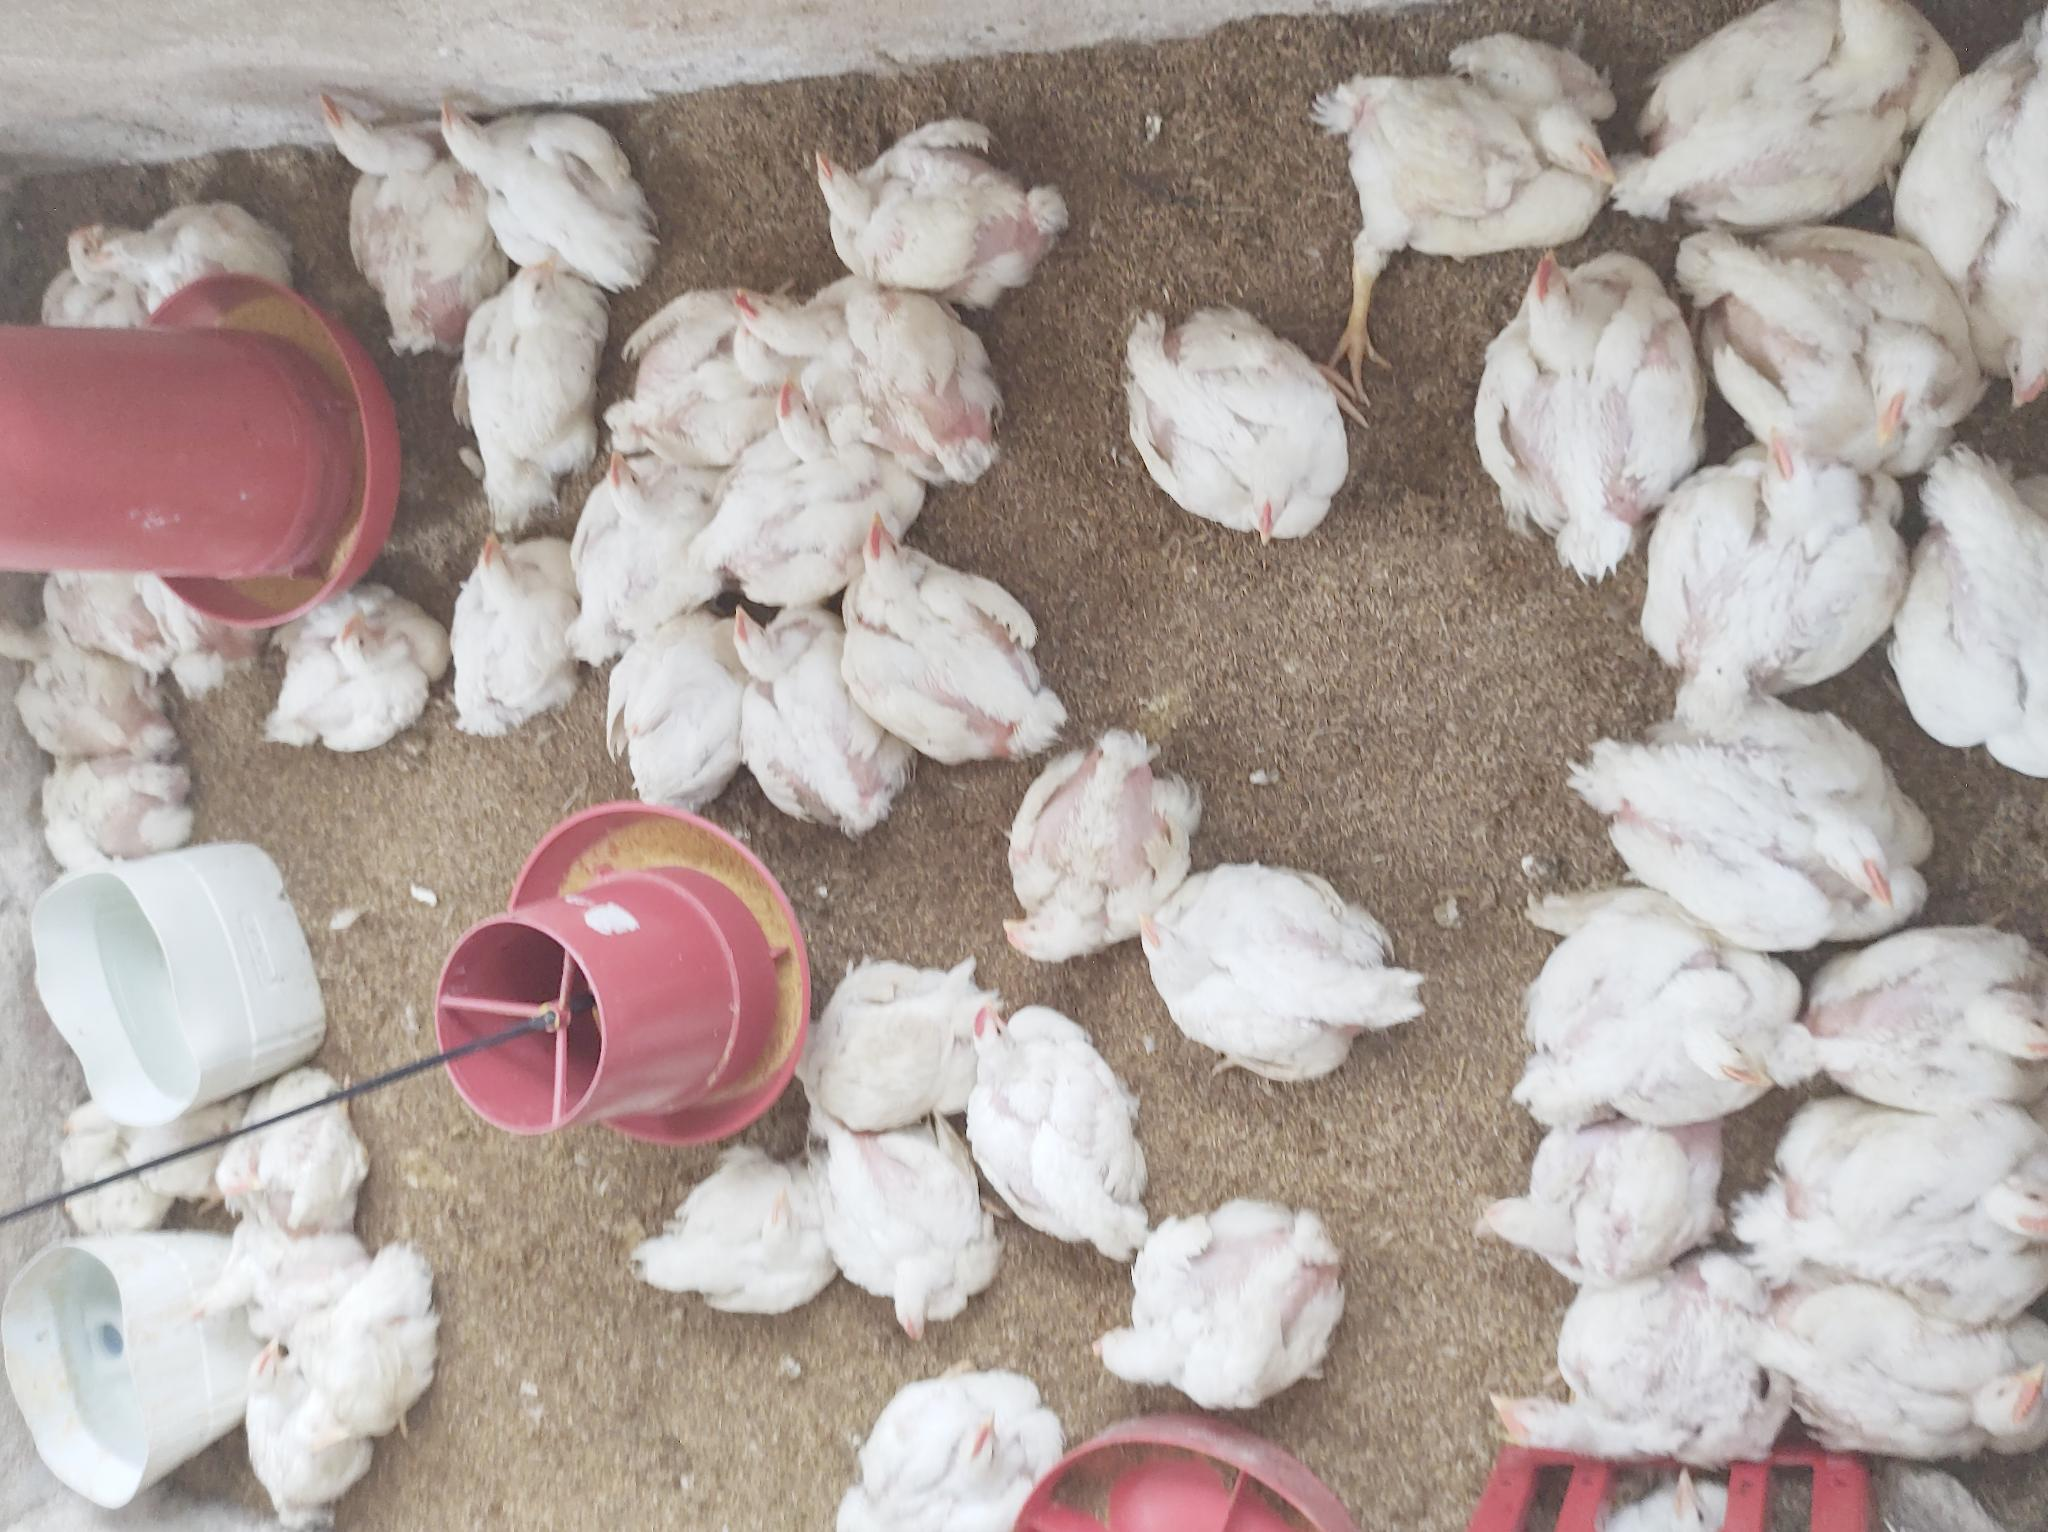Pollos: (1564, 673, 1940, 945), (1668, 195, 2008, 476), (1610, 3, 1960, 240), (1297, 31, 1623, 280), (1470, 230, 1702, 566), (1623, 444, 1903, 716), (1507, 883, 1803, 1131), (1742, 1081, 2048, 1313), (1461, 1254, 1778, 1474), (1136, 855, 1421, 1093), (1890, 0, 2048, 414), (298, 85, 513, 369), (1120, 299, 1358, 552), (698, 356, 928, 616), (1080, 1199, 1347, 1421), (840, 509, 1068, 763), (952, 996, 1155, 1268), (1882, 444, 2048, 772), (803, 108, 1068, 311), (735, 283, 1001, 486), (1757, 1279, 2048, 1463), (988, 724, 1197, 969), (430, 85, 668, 290), (1779, 933, 2048, 1110), (722, 595, 922, 830), (1482, 1110, 1725, 1291), (811, 1115, 1005, 1339), (454, 240, 607, 521), (611, 283, 835, 467), (827, 1360, 1060, 1530), (557, 444, 734, 660), (627, 1147, 833, 1323), (800, 954, 1002, 1131), (280, 1242, 450, 1439), (602, 592, 751, 814), (446, 513, 586, 747), (256, 587, 434, 752), (224, 1337, 376, 1529), (208, 1072, 381, 1228), (193, 1209, 383, 1345), (10, 636, 191, 760), (34, 727, 187, 855), (51, 1073, 174, 1231), (103, 196, 293, 298), (26, 558, 174, 661), (31, 208, 153, 314)
